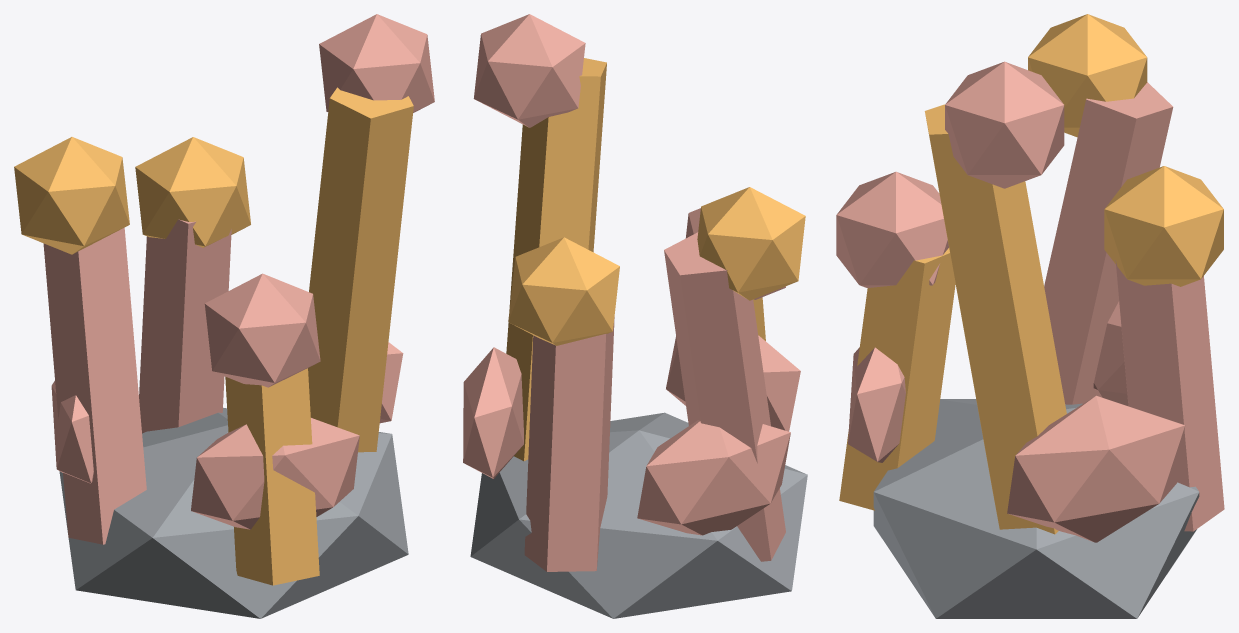
Rendered from coral.glb.
3 views of the same model, side by side, from view 1: azimuth 30°, elevation 25°; view 2: azimuth 150°, elevation 25°; view 3: azimuth 270°, elevation 25° (orthographic). The views are drawn at different scales.
Visible parts, largest first — view 1: base, branch_1.001, branch_0.001, branch_2.001, branch_3, fan_2, polyp_0, polyp_3, polyp_2, polyp_1, fan_1, fan_0; view 2: base, branch_2.001, branch_0.001, branch_1.001, fan_1, polyp_1, polyp_2, polyp_0, fan_0, fan_2; view 3: base, branch_1.001, branch_0.001, fan_0, branch_2.001, branch_3, polyp_1, polyp_2, polyp_3, polyp_0, fan_2, fan_1.
Part boxes in pixels (bbox=[...]): base: bbox=[59, 407, 408, 618]; branch_1.001: bbox=[308, 87, 413, 452]; branch_0.001: bbox=[43, 227, 146, 544]; branch_2.001: bbox=[139, 219, 231, 433]; branch_3: bbox=[225, 368, 319, 585]; fan_2: bbox=[191, 418, 359, 529]; polyp_0: bbox=[14, 137, 129, 254]; polyp_3: bbox=[204, 273, 320, 387]; polyp_2: bbox=[135, 137, 250, 247]; polyp_1: bbox=[319, 14, 434, 112]; fan_1: bbox=[51, 381, 93, 483]; fan_0: bbox=[379, 342, 403, 423]; base: bbox=[470, 412, 807, 618]; branch_2.001: bbox=[524, 317, 614, 571]; branch_0.001: bbox=[664, 232, 785, 561]; branch_1.001: bbox=[506, 58, 606, 461]; fan_1: bbox=[637, 420, 790, 535]; polyp_1: bbox=[473, 14, 585, 127]; polyp_2: bbox=[508, 237, 619, 345]; polyp_0: bbox=[697, 187, 805, 300]; fan_0: bbox=[463, 347, 523, 478]; fan_2: bbox=[666, 335, 800, 431]; base: bbox=[873, 399, 1199, 618]; branch_1.001: bbox=[924, 104, 1066, 534]; branch_0.001: bbox=[1044, 82, 1173, 404]; fan_0: bbox=[1007, 395, 1185, 542]; branch_2.001: bbox=[1115, 260, 1224, 531]; branch_3: bbox=[839, 248, 955, 510]; polyp_1: bbox=[945, 61, 1064, 188]; polyp_2: bbox=[1104, 166, 1223, 286]; polyp_3: bbox=[836, 171, 948, 287]; polyp_0: bbox=[1028, 14, 1147, 137]; fan_2: bbox=[848, 347, 905, 462]; fan_1: bbox=[1093, 301, 1128, 405].
Bounding box in the file's own units: 0.7163 × 1.05 × 0.6082.
